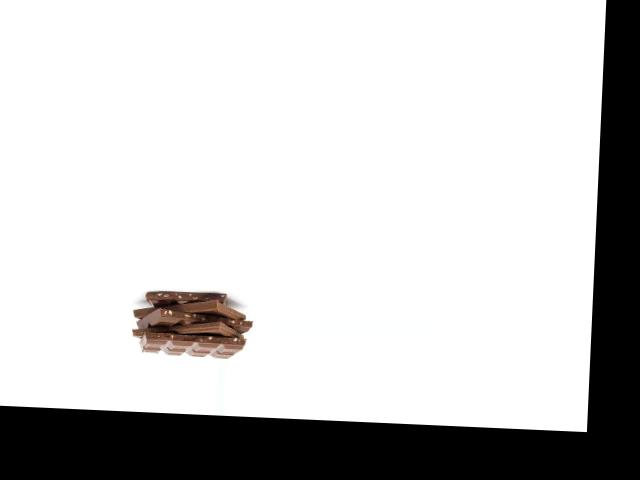chocolate: (134, 283, 246, 332)
